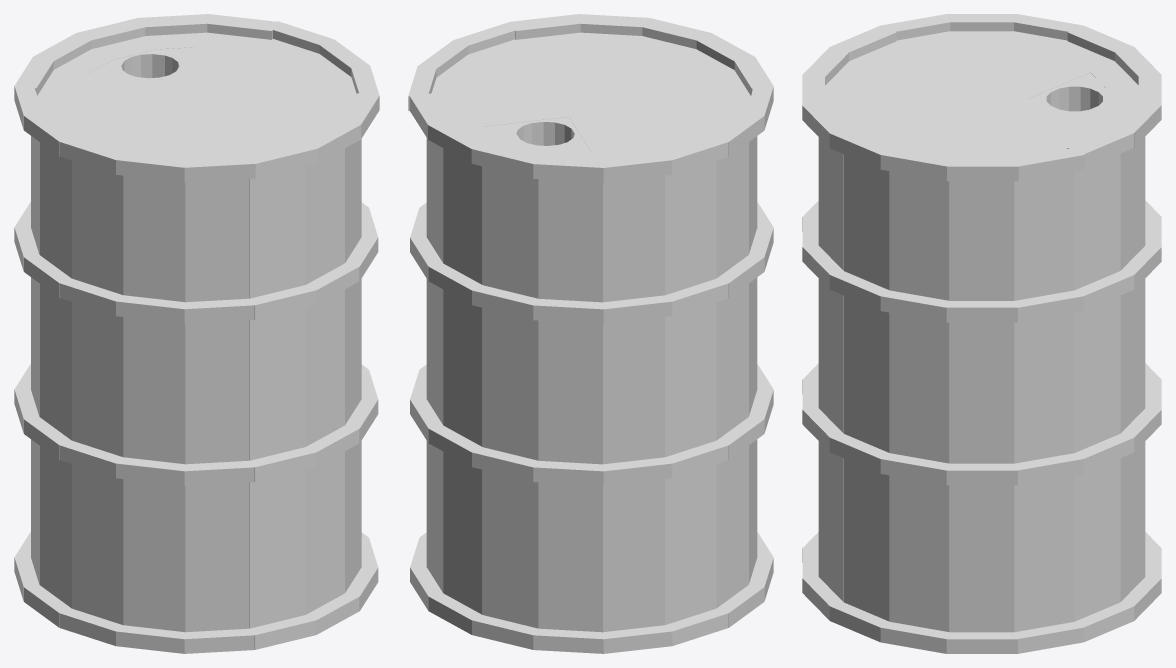
The model's file is drum.obj.
3 views of the same model, side by side, from view 1: azimuth 30°, elevation 25°; view 2: azimuth 150°, elevation 25°; view 3: azimuth 270°, elevation 25° (orthographic).
Visible parts, largest first — view 1: cube.004; view 2: cube.004; view 3: cube.004.
Boxes of the visible parts, x1,y1,x2,y2 form: cube.004: [14, 14, 379, 653]; cube.004: [408, 14, 773, 653]; cube.004: [802, 14, 1161, 653].
Bounding box in the file's own units: 3.26 × 4.86 × 3.25.
Materials: 1 (1 with a texture image).
